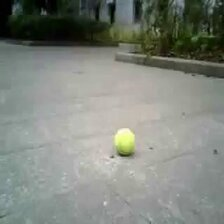tennis: (115, 129, 135, 154)
